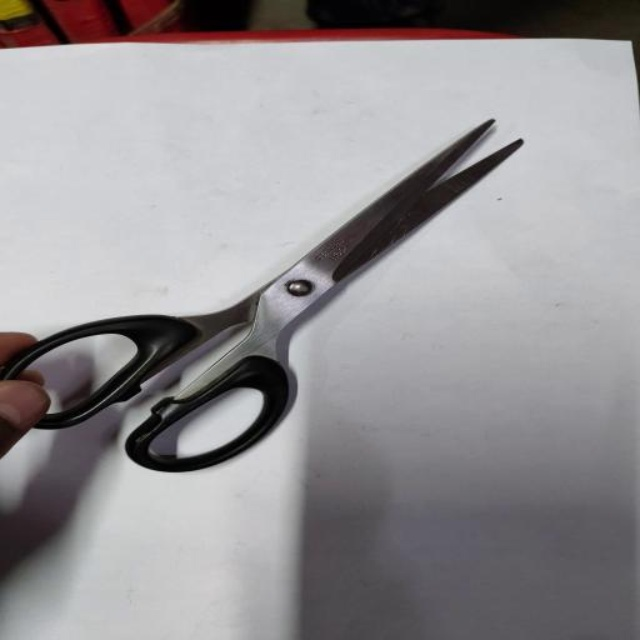scissor: (0, 117, 533, 477)
